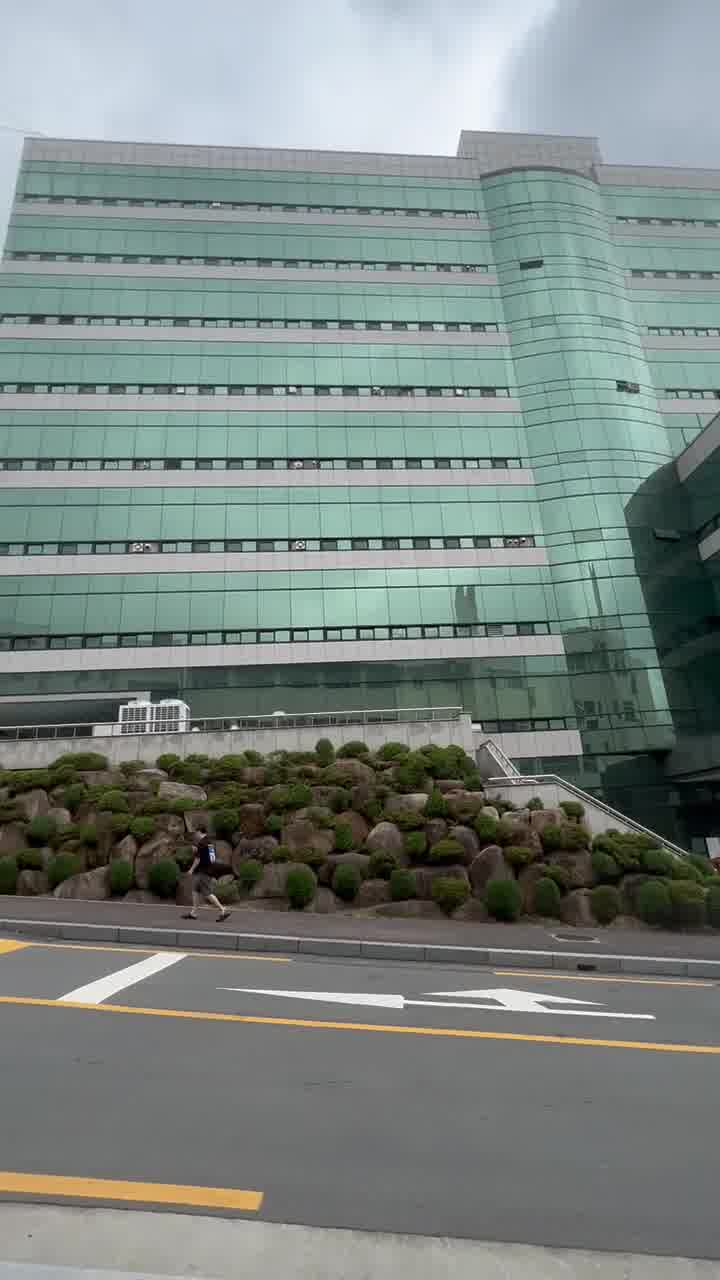medium: (18, 134, 720, 696)
